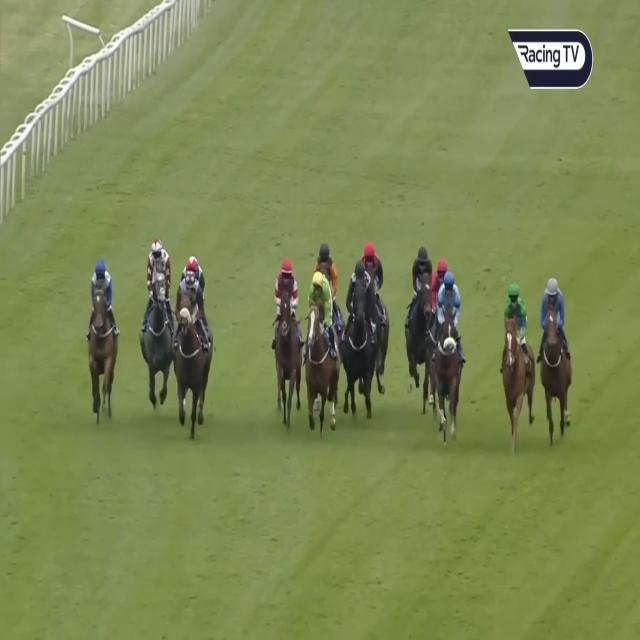horses-racing: (171, 272, 215, 425), (497, 283, 538, 445), (302, 275, 340, 431), (141, 236, 174, 404), (272, 256, 301, 422), (435, 271, 463, 438), (541, 275, 569, 440), (89, 259, 115, 426), (347, 260, 374, 410), (404, 239, 432, 368), (313, 247, 346, 342), (359, 244, 392, 322), (422, 256, 452, 328), (180, 252, 207, 297)
